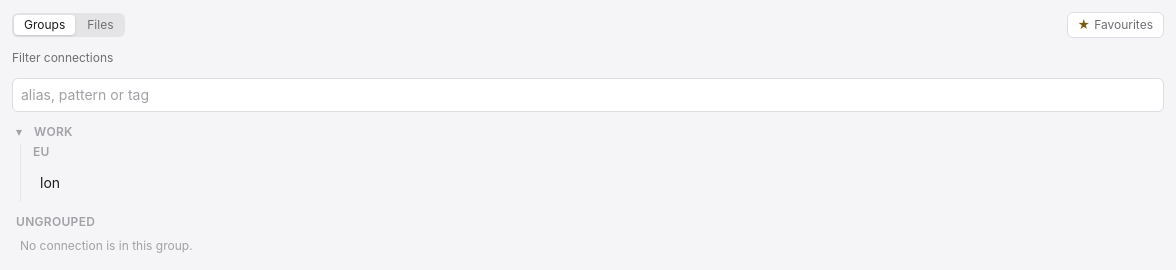
Test: the group hierarchy › collapses a parent, taking its children and their connections with it
The width and height of the screenshot is (1176, 270).
Click the button named "Collapse work".
click(19, 132)  # box [12,124,26,140]
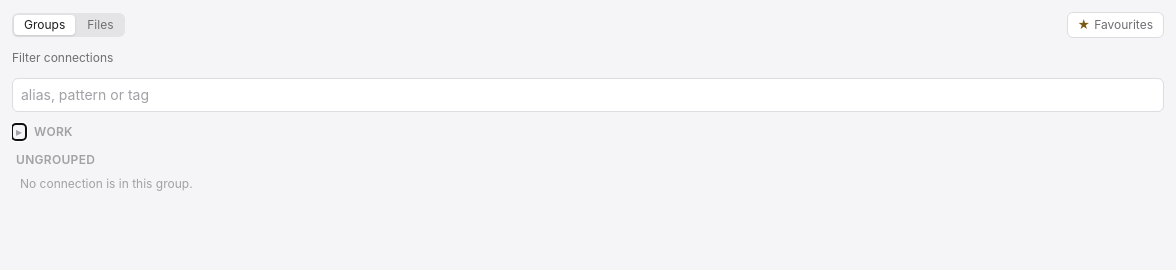
Now the heading "eu" is gone
Now the button "lon" is gone
Now the button named "Expand work" is shown, box [12,124,26,140]
